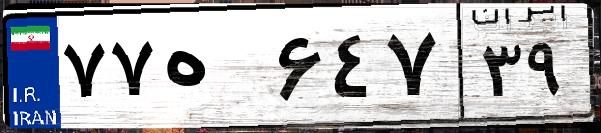3: (475, 38, 525, 113)
4: (330, 28, 385, 110)
6: (270, 28, 330, 110)
7: (385, 28, 445, 110), (57, 26, 110, 100), (110, 28, 158, 98)
9: (525, 38, 570, 115)
ه: (158, 20, 270, 120)
